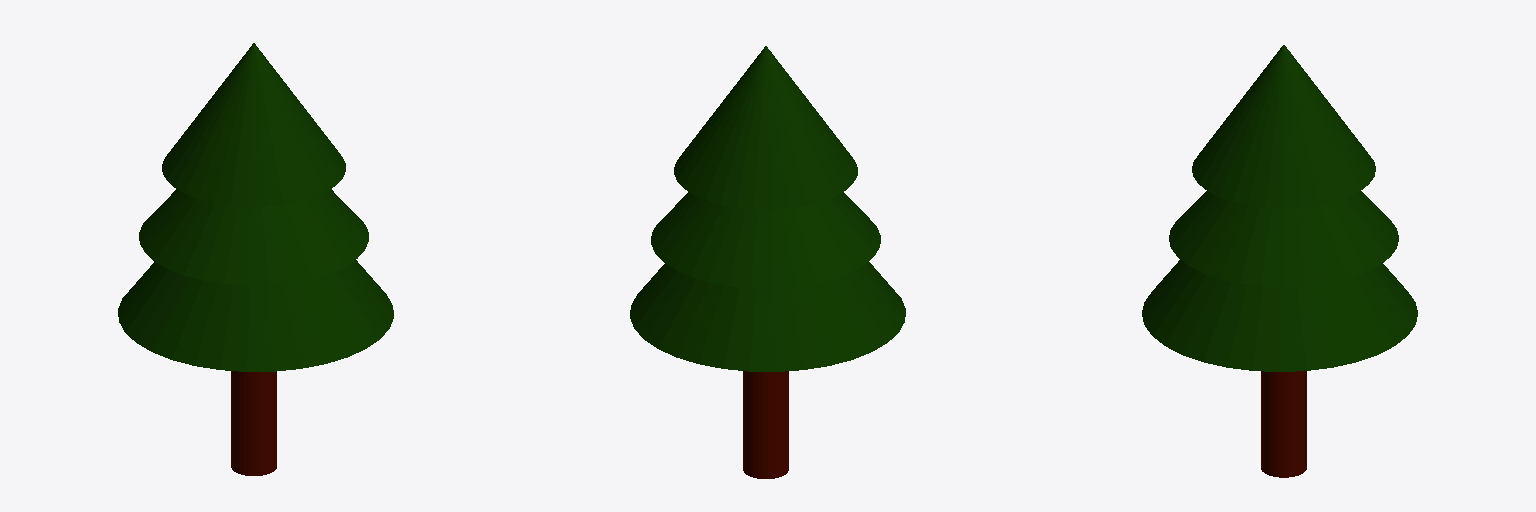
File: simpletree.obj
The picture shows the model from 3 angles: view 1: azimuth 30°, elevation 25°; view 2: azimuth 150°, elevation 25°; view 3: azimuth 270°, elevation 25°; orthographic projection.
Parts seen in each view (by area): view 1: tree_Cylinder; view 2: tree_Cylinder; view 3: tree_Cylinder.
Part boxes in pixels (x1,y1,x2,y2): tree_Cylinder: (118,43,393,475); tree_Cylinder: (630,46,905,478); tree_Cylinder: (1142,45,1417,477).
Size of the model in its own units: 6 by 10.14 by 6.